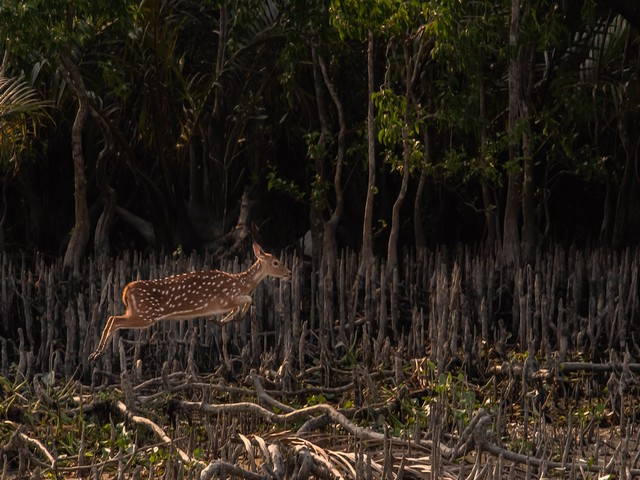deer: (89, 234, 293, 363)
